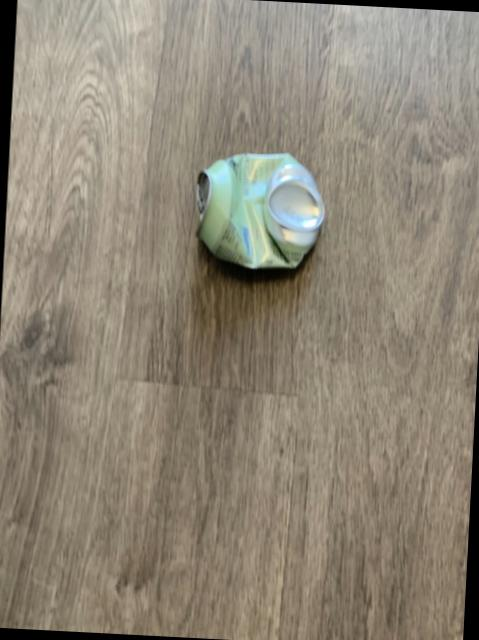metal: (197, 153, 323, 267)
